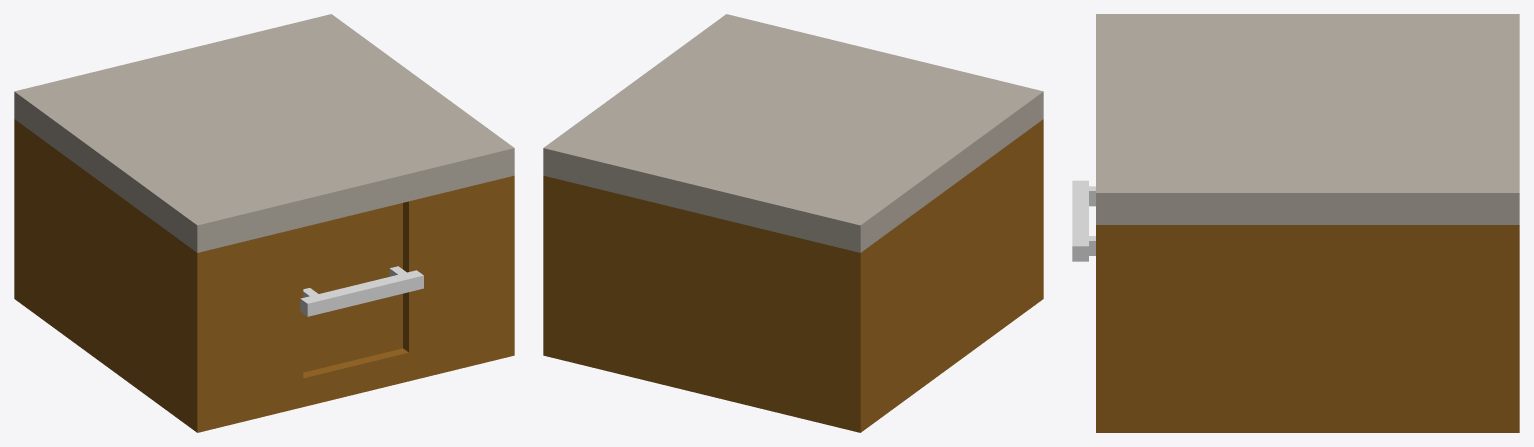
File: cabinet.fbx
3 renders of one model, left to right at view 1: azimuth 30°, elevation 25°; view 2: azimuth 150°, elevation 25°; view 3: azimuth 270°, elevation 25°, orthographic. The views are drawn at different scales.
Parts seen in each view (by area): view 1: cabinet; view 2: cabinet; view 3: cabinet.
Part boxes in pixels (x1,y1,x2,y2): cabinet: (14, 14, 514, 432); cabinet: (543, 14, 1043, 432); cabinet: (1072, 14, 1519, 432).
Size of the model in its own units: 102 by 63.48 by 107.
